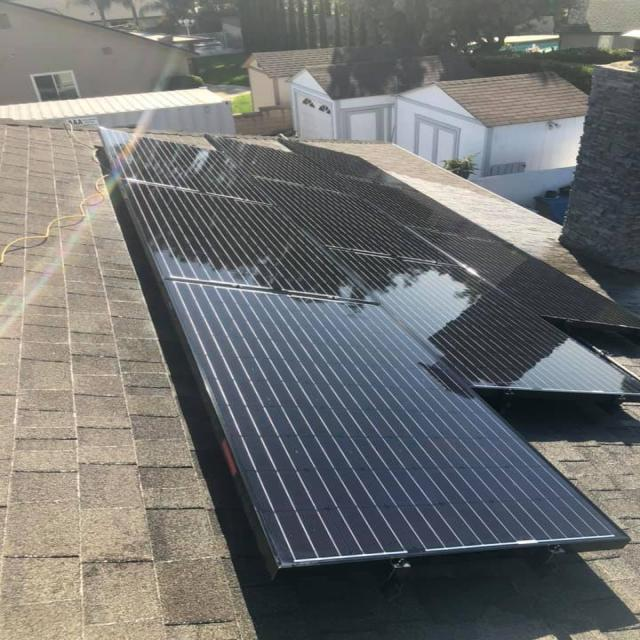clean-solar-panel: (100, 134, 637, 569), (300, 140, 638, 329)
